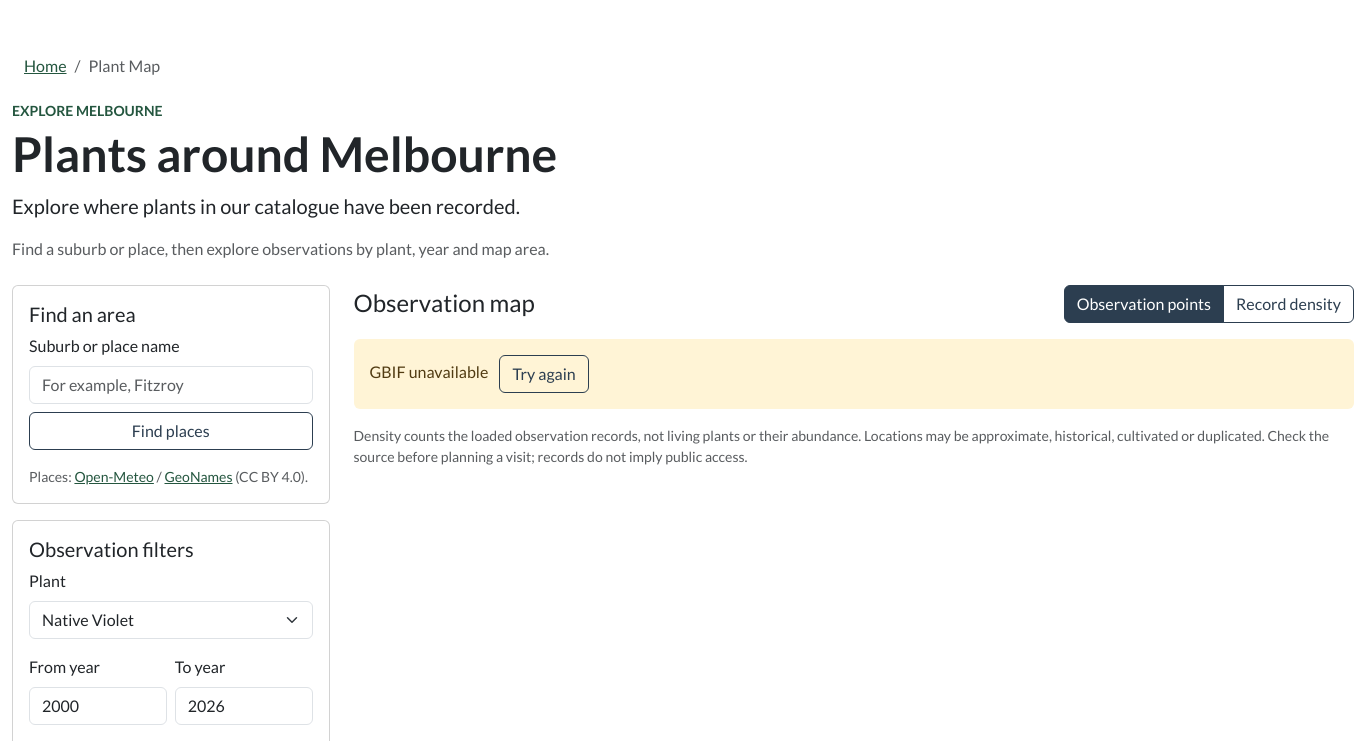
it: plant map workflows › reports errors and empty searches without fake records, and allows retry
Expected: the message "GBIF unavailable Try again" is shown, x1=354 y1=339 x2=1354 y2=409
Click the button "Try again".
click(544, 374)  # box x1=499 y1=355 x2=589 y2=393
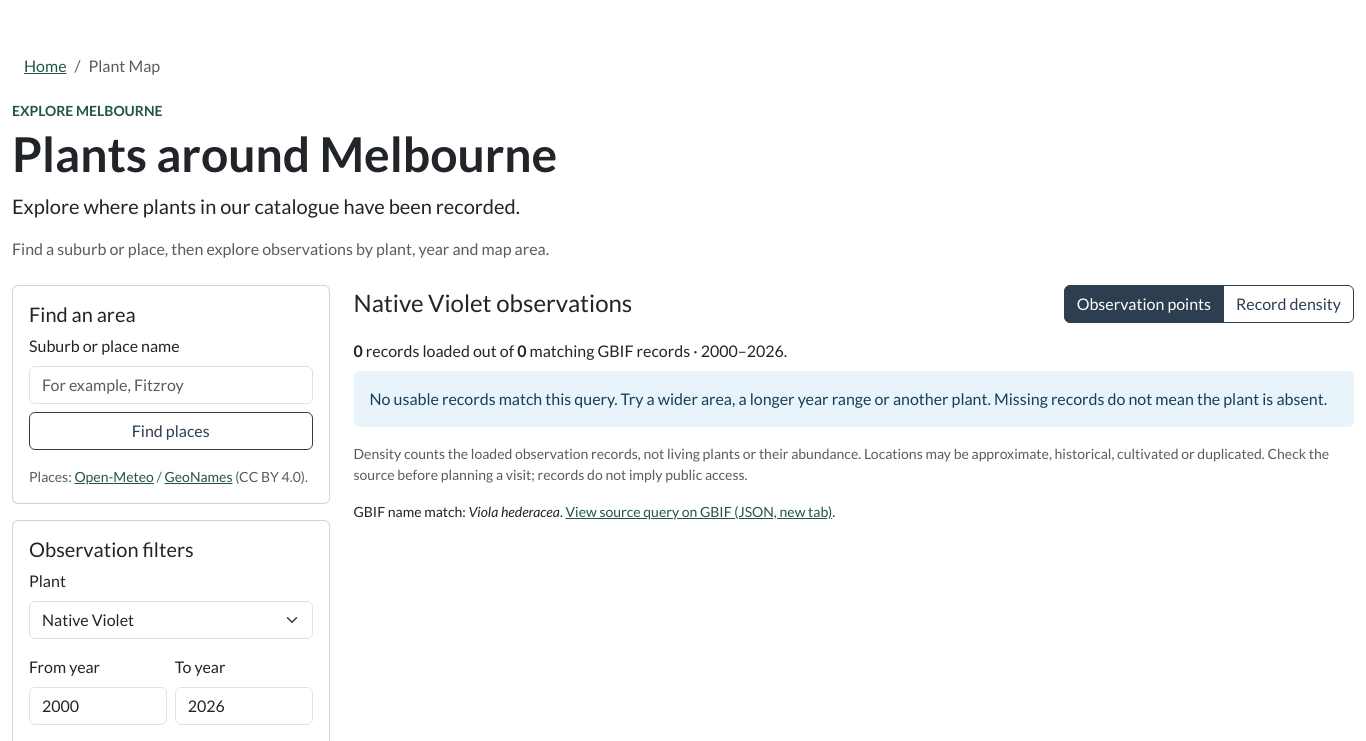
Expected: the text "Missing records do not mean the plant is absent" is shown, x1=370 y1=389 x2=1327 y2=408
